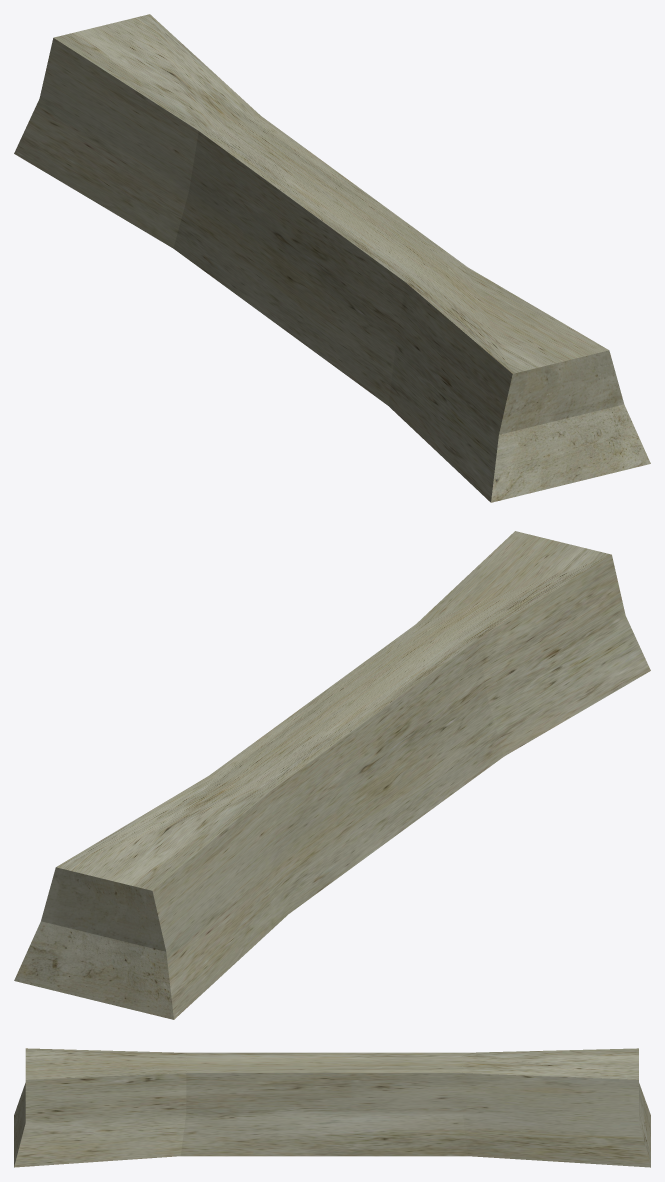
The model's file is digue.fbx.
3 renders of one model, top to bottom at view 1: azimuth 30°, elevation 25°; view 2: azimuth 150°, elevation 25°; view 3: azimuth 270°, elevation 25°, orthographic. The views are drawn at different scales.
Parts seen in each view (by area): view 1: Cube; view 2: Cube; view 3: Cube.
Boxes of the visible parts, x1,y1,x2,y2 form: Cube: (14,14,650,502); Cube: (14,531,650,1019); Cube: (14,1048,650,1167).
Size of the model in its own units: 208 by 143 by 1072.
Materials: 1 (1 with a texture image).
